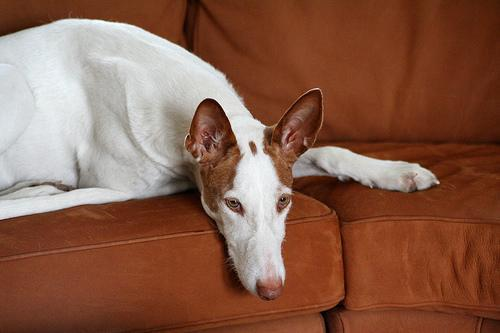Ibizan_hound: (0, 18, 438, 301)
